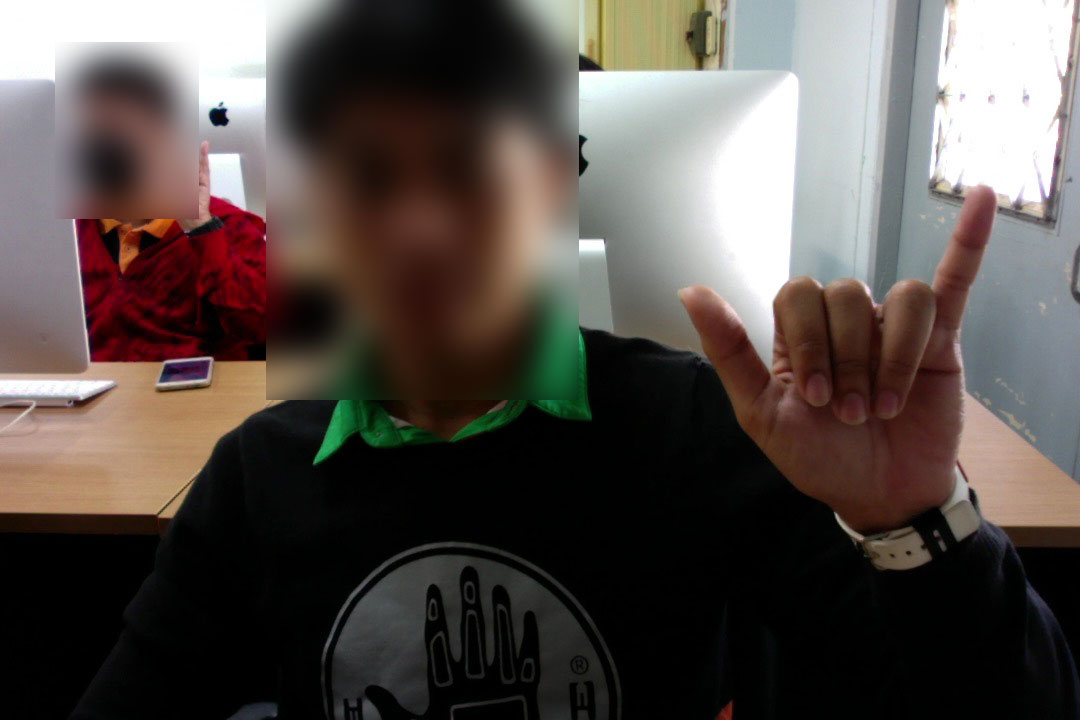yor: (671, 182, 1003, 523)
